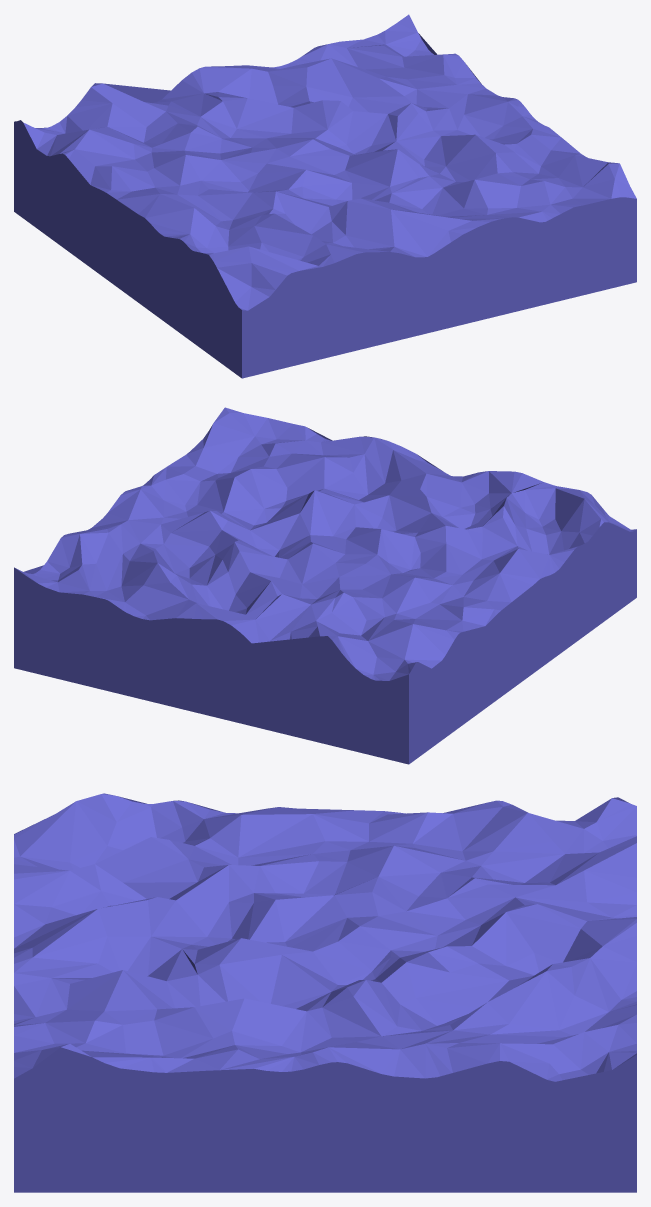
The model's file is Water_Day.fbx.
The picture shows the model from 3 angles, top to bottom: view 1: azimuth 30°, elevation 25°; view 2: azimuth 150°, elevation 25°; view 3: azimuth 270°, elevation 25°; orthographic projection. The views are drawn at different scales.
Visible parts, largest first — view 1: pPlane1; view 2: pPlane1; view 3: pPlane1.
Boxes of the visible parts, left/top/right/bottom form: pPlane1: left=14, top=14, right=636, bottom=378; pPlane1: left=14, top=407, right=636, bottom=764; pPlane1: left=14, top=793, right=636, bottom=1192.
Size of the model in its own units: 12 by 3.2 by 12.
